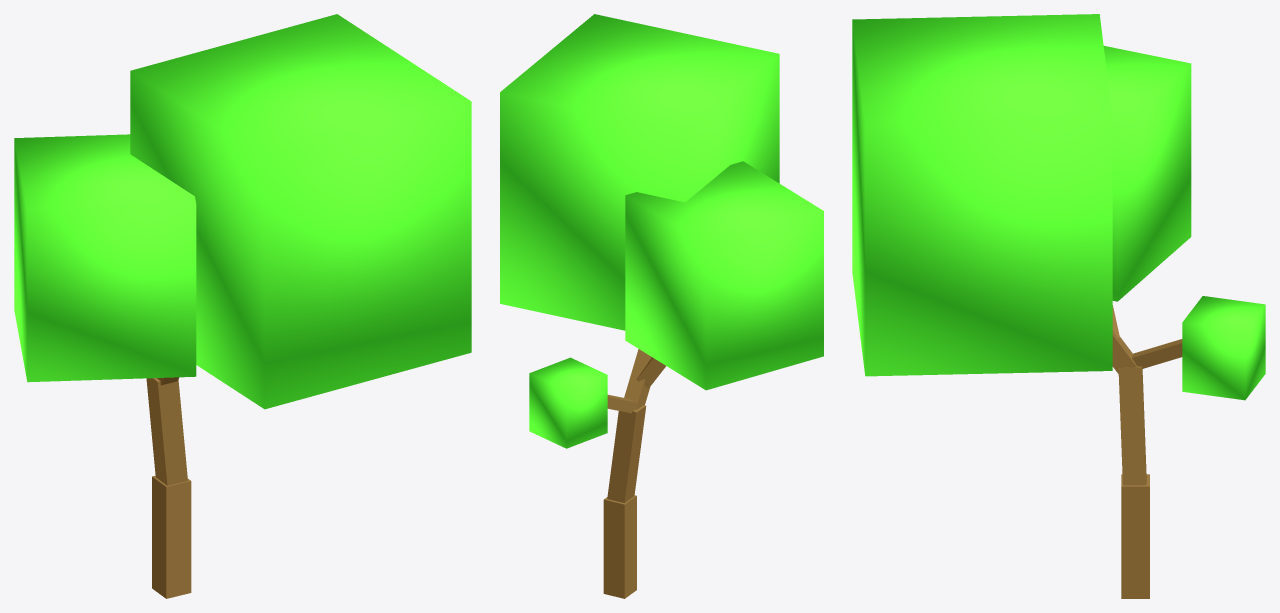
File: tree1.gltf
3 renders of one model, left to right at view 1: azimuth 30°, elevation 25°; view 2: azimuth 150°, elevation 25°; view 3: azimuth 270°, elevation 25°, orthographic. The views are drawn at different scales.
Parts seen in each view (by area): view 1: Tree1; view 2: Tree1; view 3: Tree1.
Part boxes in pixels (left/top/right/bottom): Tree1: left=14, top=14, right=471, bottom=598; Tree1: left=500, top=14, right=823, bottom=598; Tree1: left=852, top=14, right=1265, bottom=598.
Bounding box in the file's own units: 5.71 × 8.33 × 5.68.
